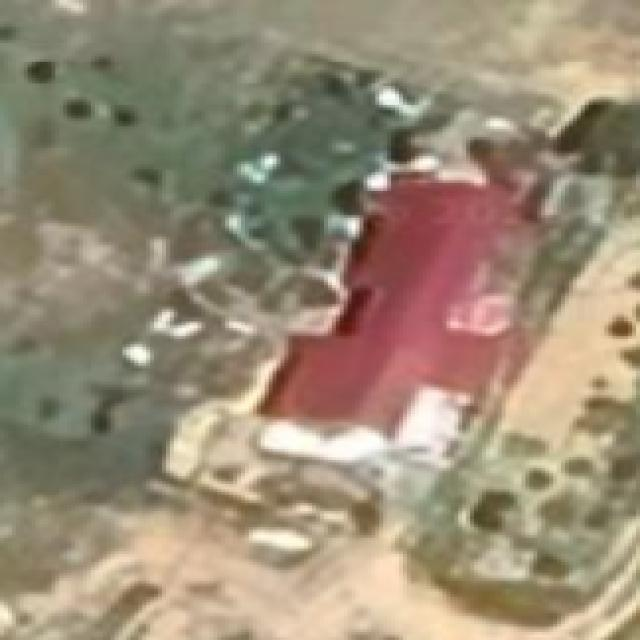Batiment: (261, 177, 511, 431)
